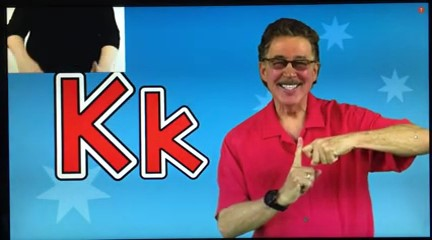K: (278, 131, 352, 198)
